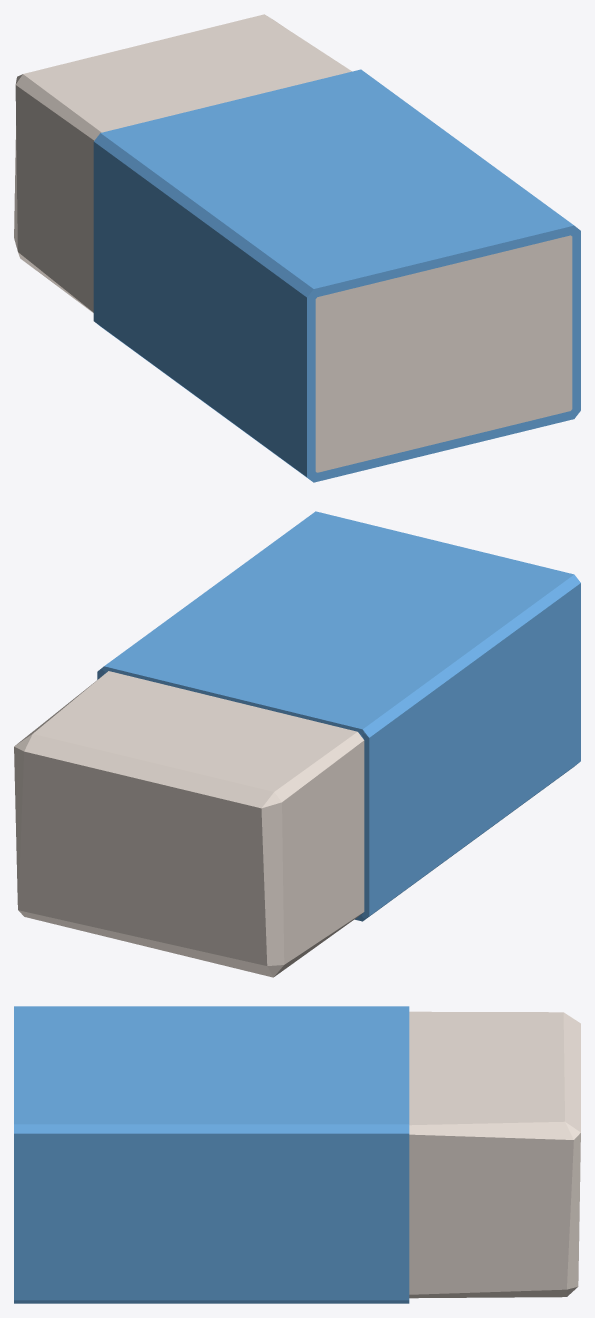
Rendered from Rubber.fbx.
The picture shows the model from 3 angles, top to bottom: view 1: azimuth 30°, elevation 25°; view 2: azimuth 150°, elevation 25°; view 3: azimuth 270°, elevation 25°; orthographic projection. The views are drawn at different scales.
Parts seen in each view (by area): view 1: Cube; view 2: Cube; view 3: Cube.
Part boxes in pixels (box(x1,y1,x2,y2)): Cube: box(14, 14, 580, 482); Cube: box(14, 511, 580, 977); Cube: box(14, 1006, 580, 1303).
Size of the model in its own units: 200 by 135 by 387.
